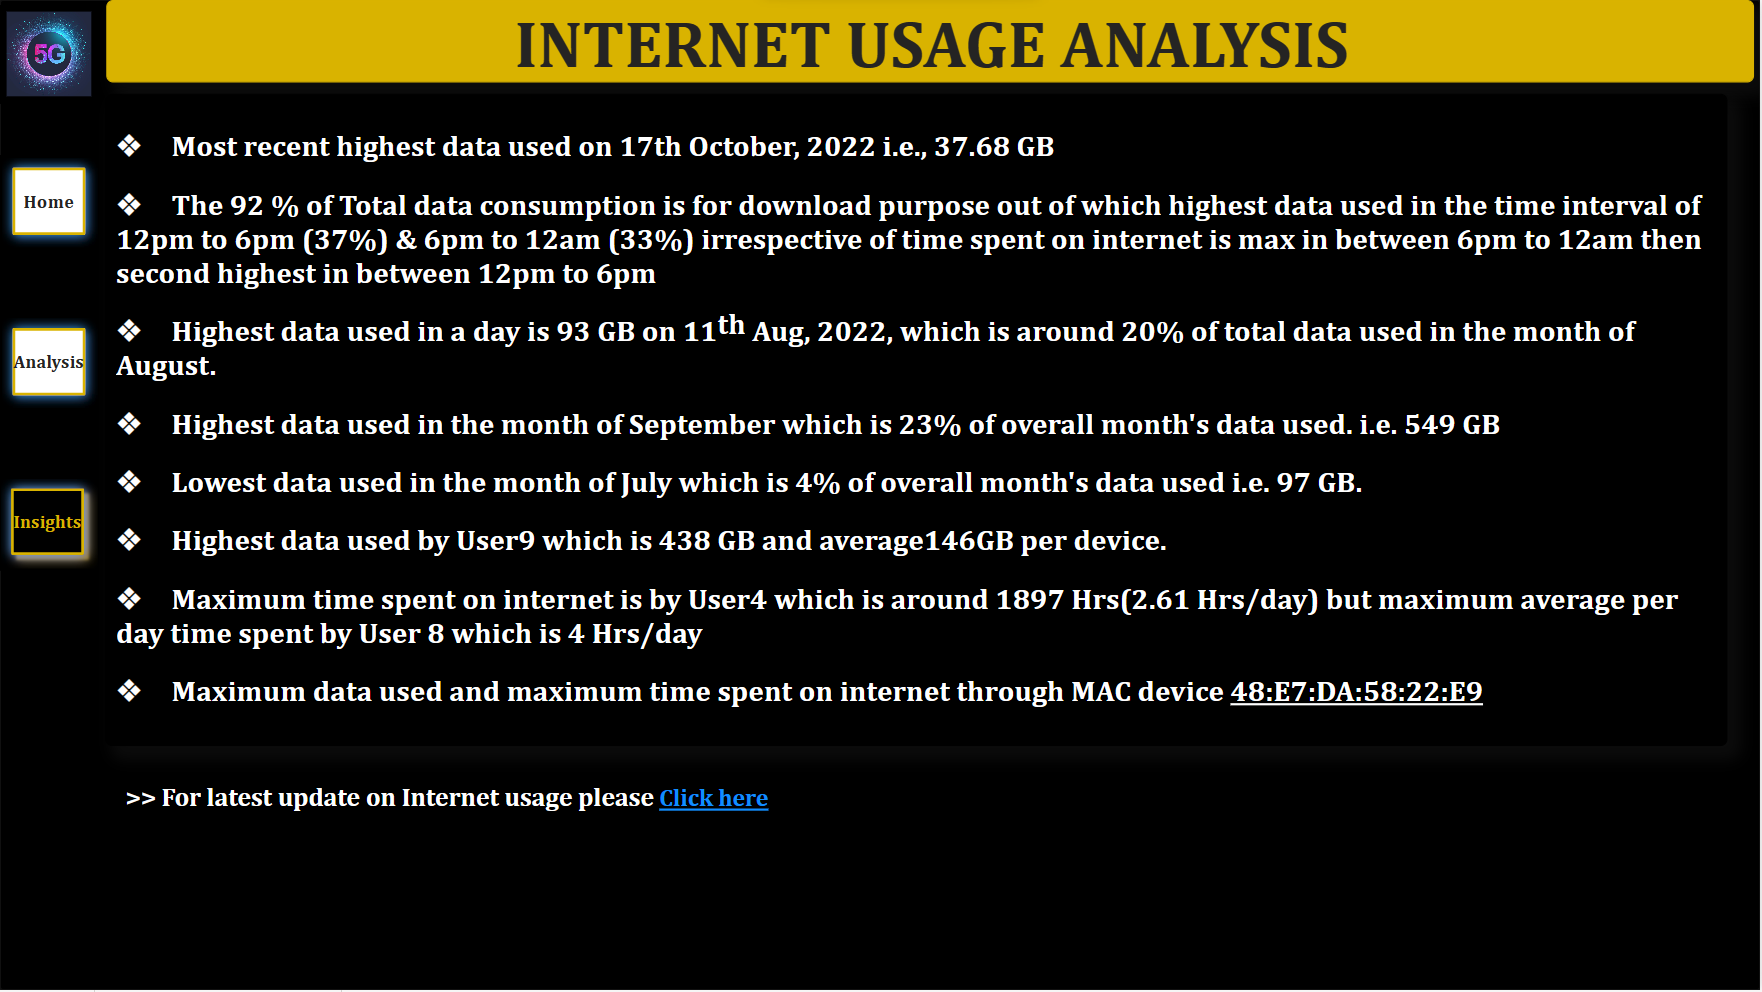

This screenshot's page, from the dashboard's own definition file:
{"tool":"powerbi","page":{"name":"Insights","canvas":[1280,720],"ordinal":2},"visuals":[{"type":"shape","title":"INTERNET USAGE ANALYSIS","box":[77.1,0,1198.6,60],"z":0},{"type":"image","box":[0,3.8,71.6,71.6],"z":1000},{"type":"textbox","title":"In","box":[76.7,67.8,1180.2,474.4],"z":2000},{"type":"pageNavigator","box":[0,112.5,71.2,302.5],"z":3000},{"type":"actionButton","box":[475.7,560.1,88,39.6],"z":4000},{"type":"actionButton","box":[87,560,394,39.6],"z":5000}]}

Visuals, with their boxes in screenshot pixels (x1, y1, x2, y2), scaled from the page's 1280x720 canvas onto the 1762x992 screenshot:
"INTERNET USAGE ANALYSIS" shape: 106:0:1756:83
image: 0:5:99:104
"In" textbox: 106:93:1730:747
pageNavigator: 0:155:98:572
actionButton: 655:772:776:826
actionButton: 120:772:662:826
